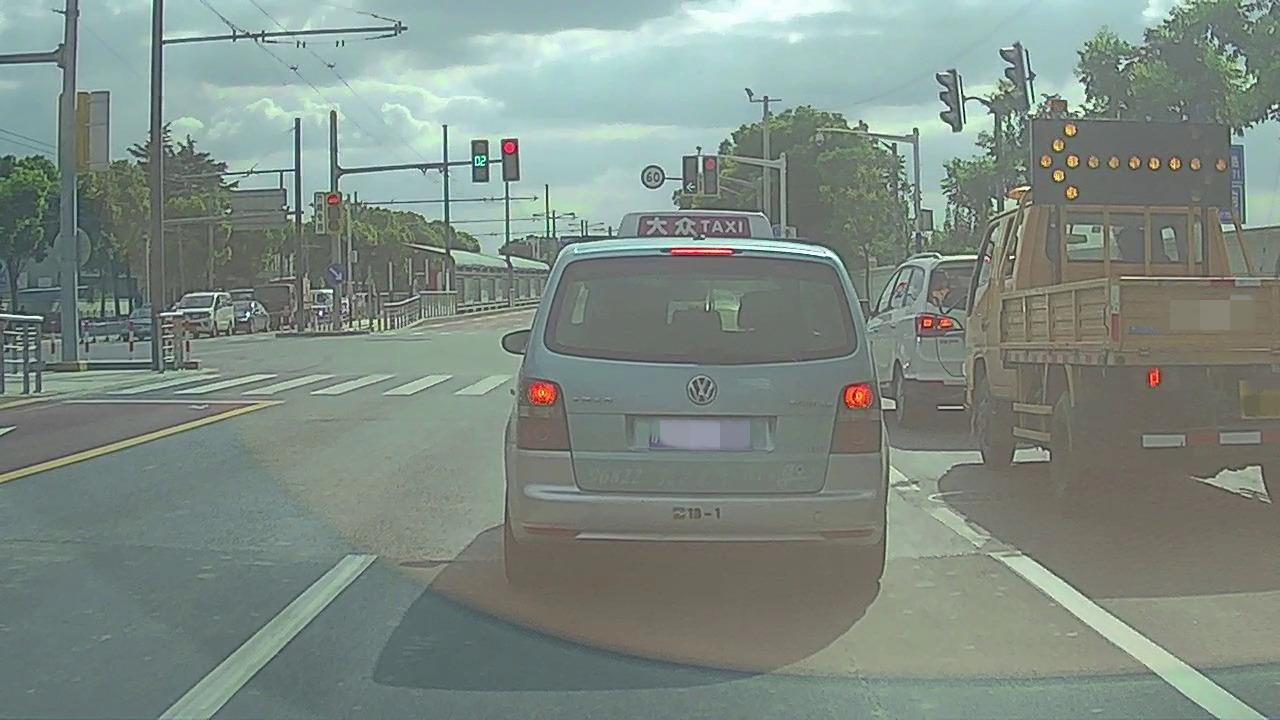traffic_light: (502, 139, 520, 182), (472, 140, 488, 184), (685, 157, 700, 194), (702, 157, 716, 196)
